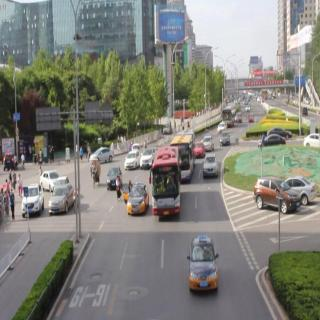BigCar: (151, 149, 189, 227), (170, 134, 199, 185), (217, 99, 240, 133)
Car: (184, 234, 226, 296), (255, 174, 299, 230), (285, 168, 315, 206), (51, 184, 80, 218), (123, 183, 149, 219), (23, 177, 42, 224), (258, 133, 290, 157), (201, 148, 220, 186), (103, 161, 124, 195), (263, 124, 298, 143), (93, 145, 120, 167), (42, 163, 58, 194), (303, 131, 320, 159), (124, 150, 143, 172), (141, 149, 158, 173), (218, 130, 238, 150), (203, 133, 219, 151), (217, 120, 233, 134), (194, 140, 206, 156)
